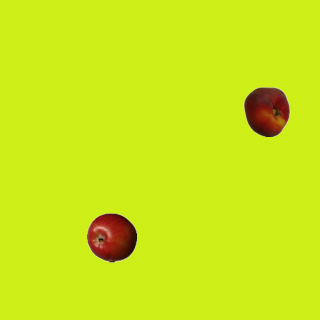Apple Braeburn: (86, 212, 136, 262)
Nectarine Flat: (241, 86, 291, 136)
